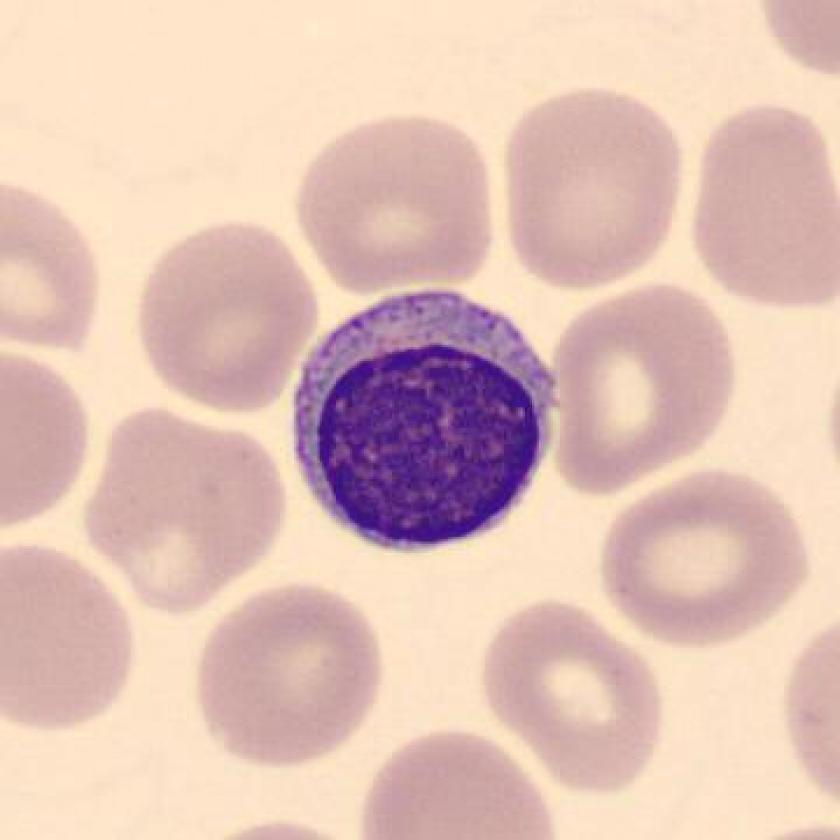lymphocyte: (274, 274, 573, 568)
